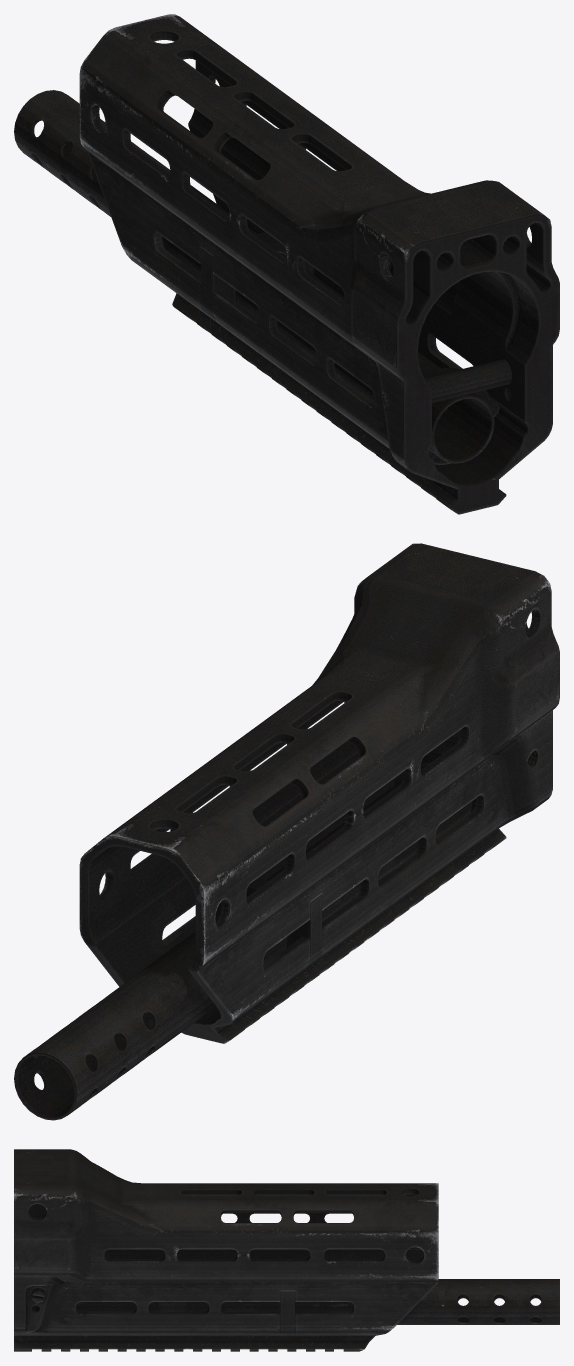
The picture shows the model from 3 angles, top to bottom: view 1: azimuth 30°, elevation 25°; view 2: azimuth 150°, elevation 25°; view 3: azimuth 270°, elevation 25°; orthographic projection. The views are drawn at different scales.
Parts seen in each view (by area): view 1: TW_67d417c023ec241bb70d4896_PZ_Import; view 2: TW_67d417c023ec241bb70d4896_PZ_Import; view 3: TW_67d417c023ec241bb70d4896_PZ_Import.
Boxes of the visible parts, x1,y1,x2,y2 form: TW_67d417c023ec241bb70d4896_PZ_Import: (14,14,559,514); TW_67d417c023ec241bb70d4896_PZ_Import: (14,543,559,1120); TW_67d417c023ec241bb70d4896_PZ_Import: (14,1149,559,1351).
Bounding box in the file's own units: 0.0361 × 0.1659 × 0.0595.
Materials: 1 (1 with a texture image).
